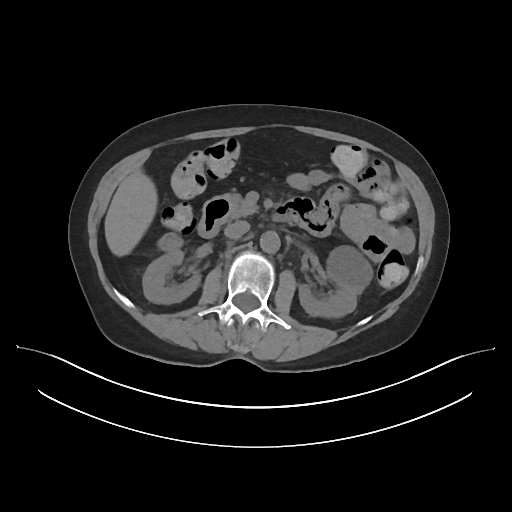Lesion: (325, 244, 374, 297)
